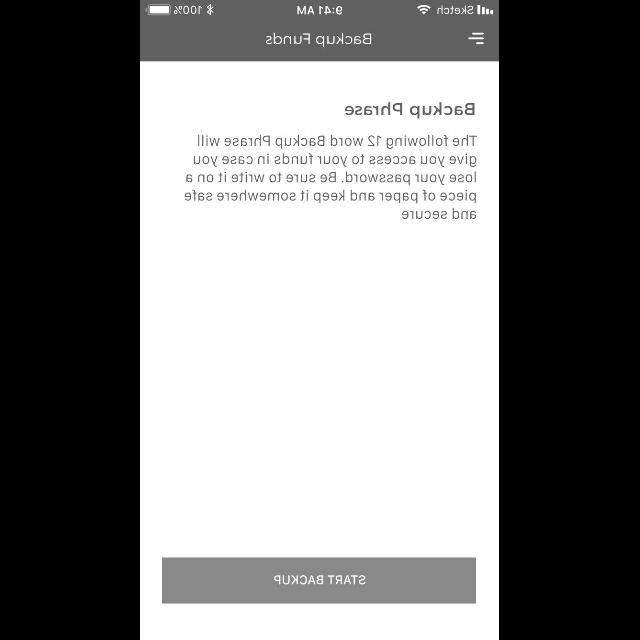icon: (468, 32, 484, 46)
text: (182, 135, 478, 219), (345, 103, 475, 119), (266, 32, 372, 48)
textbutton: (163, 558, 477, 604)
uppertaskbar: (140, 1, 500, 17)
